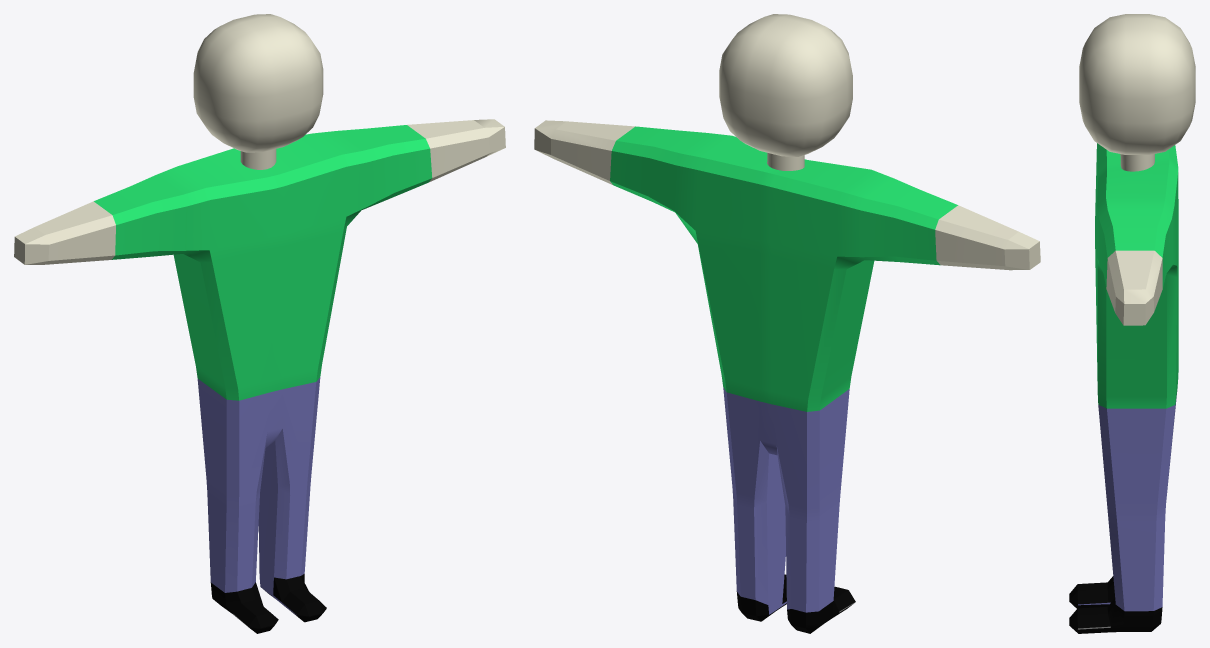
File: colour.fbx
3 renders of one model, left to right at view 1: azimuth 30°, elevation 25°; view 2: azimuth 150°, elevation 25°; view 3: azimuth 270°, elevation 25°, orthographic. The views are drawn at different scales.
Parts seen in each view (by area): view 1: pCube6; view 2: pCube6; view 3: pCube6.
Part boxes in pixels (x1=…): pCube6: x1=14, y1=14, x2=505, y2=633; pCube6: x1=534, y1=14, x2=1040, y2=633; pCube6: x1=1069, y1=14, x2=1195, y2=633.
Bounding box in the file's own units: 6.51 × 7.51 × 1.45.
